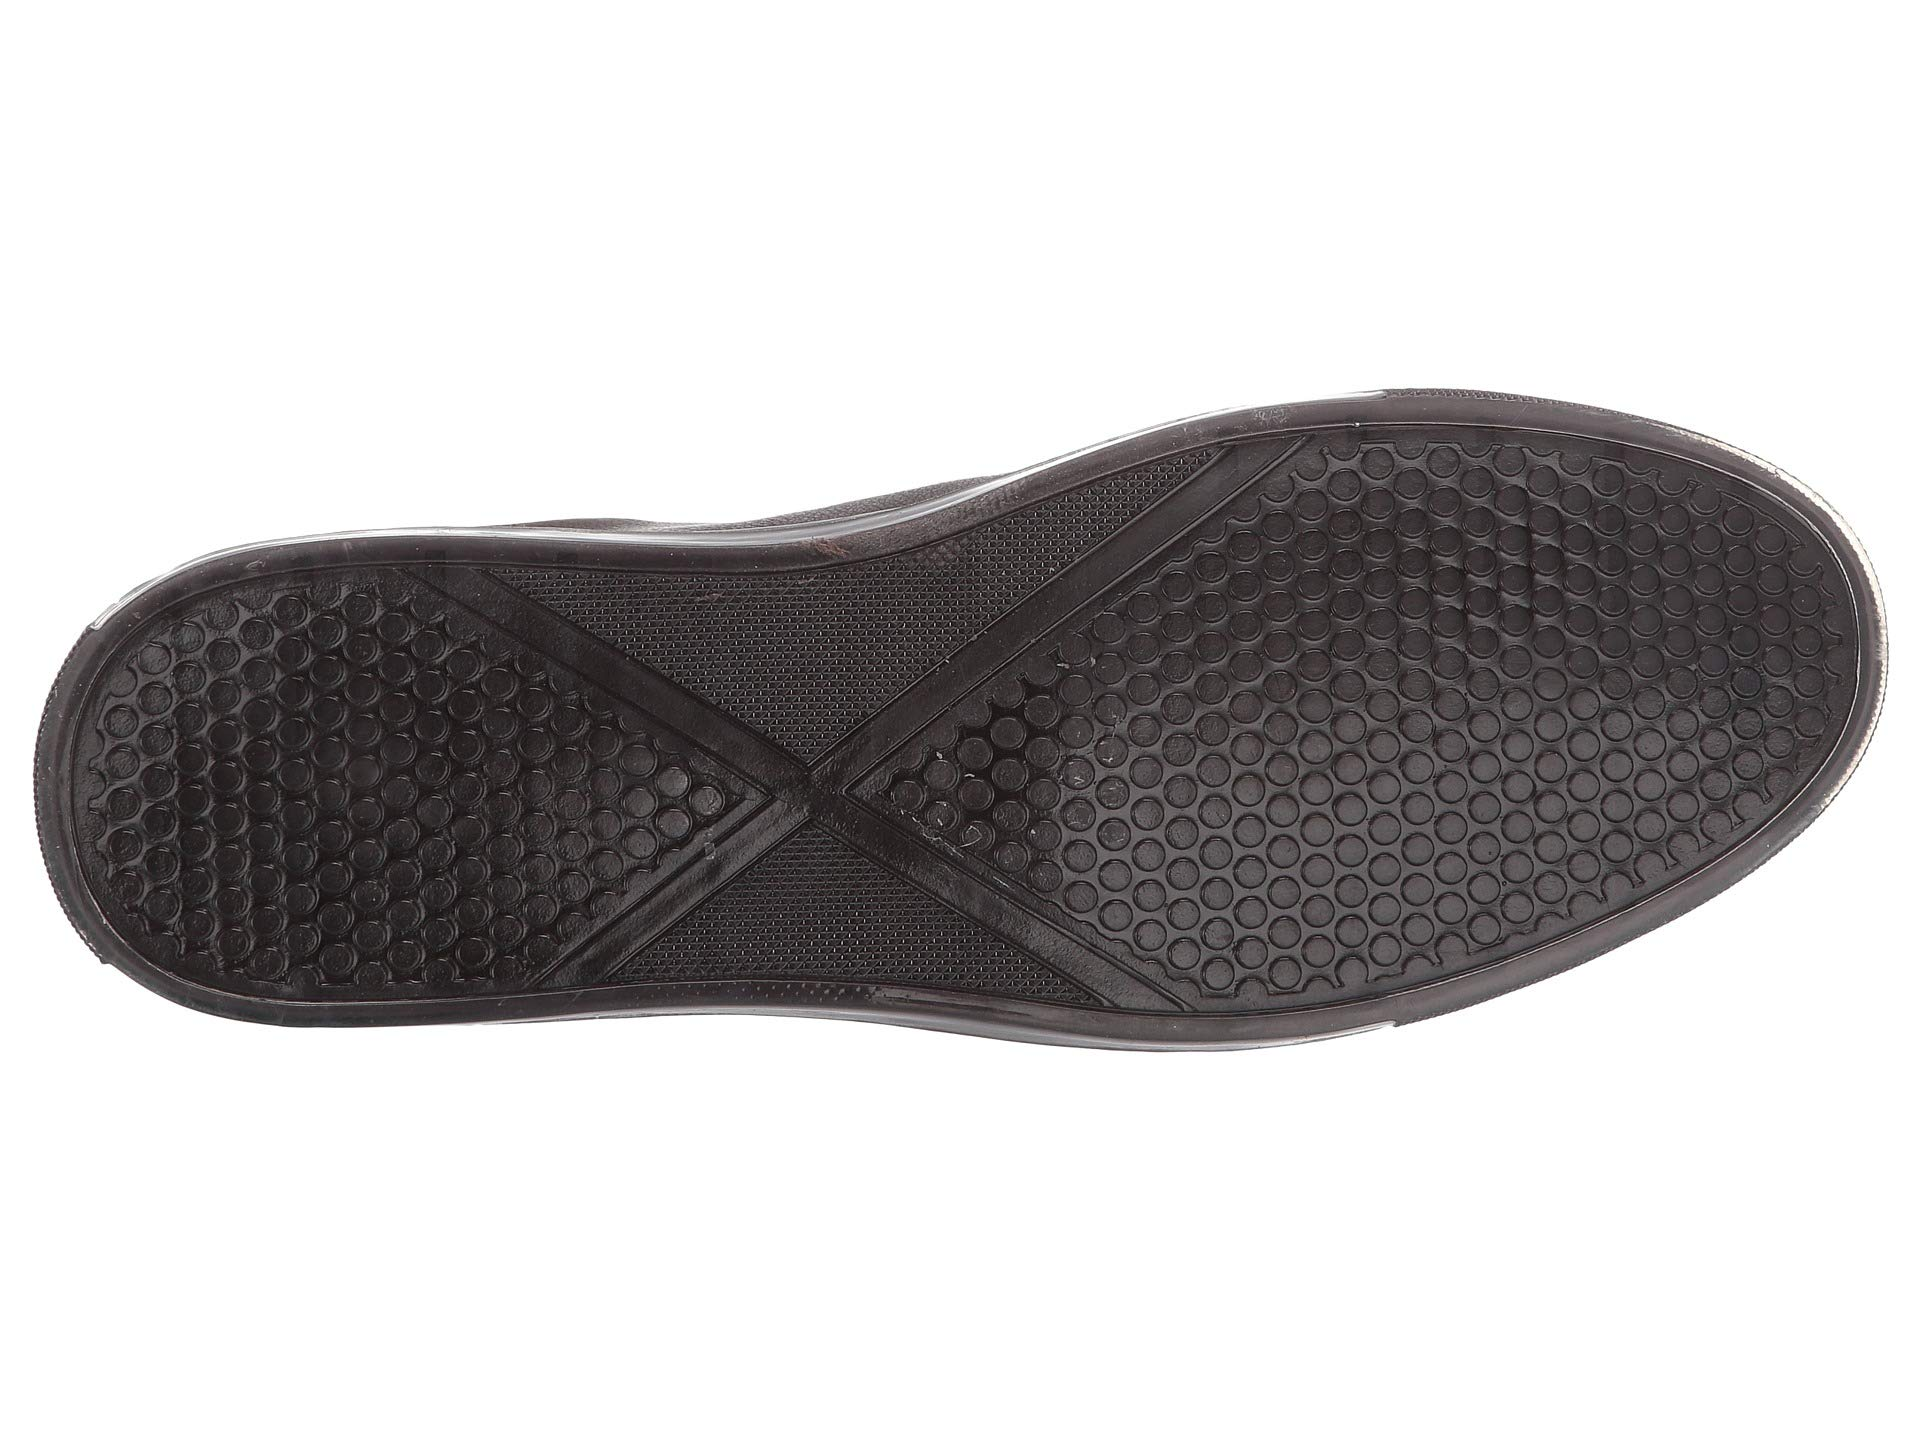chevron: (578, 599, 1051, 989)
circle: (578, 599, 1051, 989), (1215, 529, 1589, 989)
